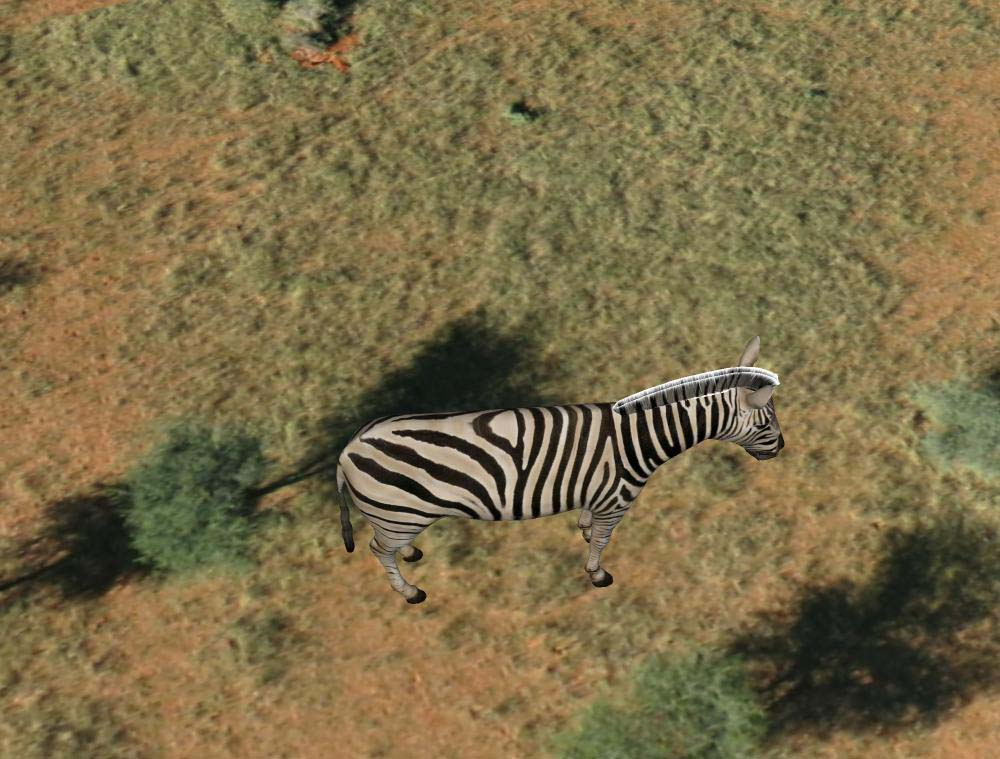zebra: (329, 361, 785, 602)
